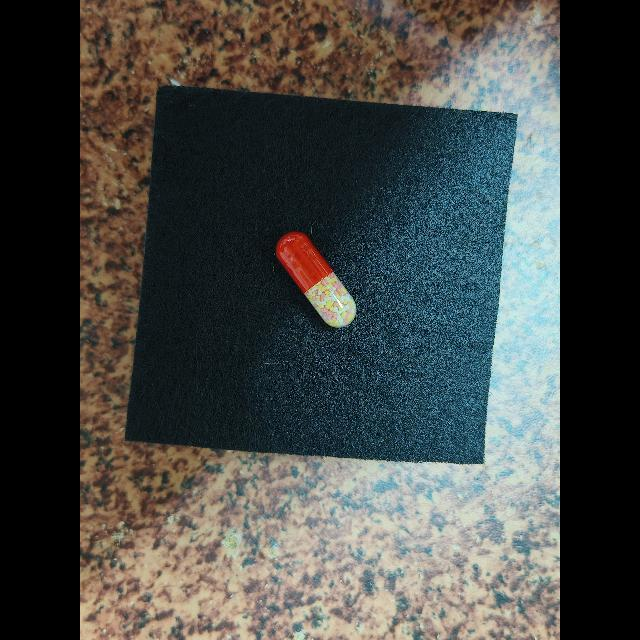Intact Capsule: (276, 232, 357, 328)
